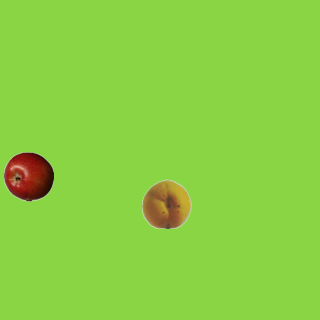Apple Braeburn: (3, 151, 53, 201)
Peach 2: (141, 178, 191, 228)
